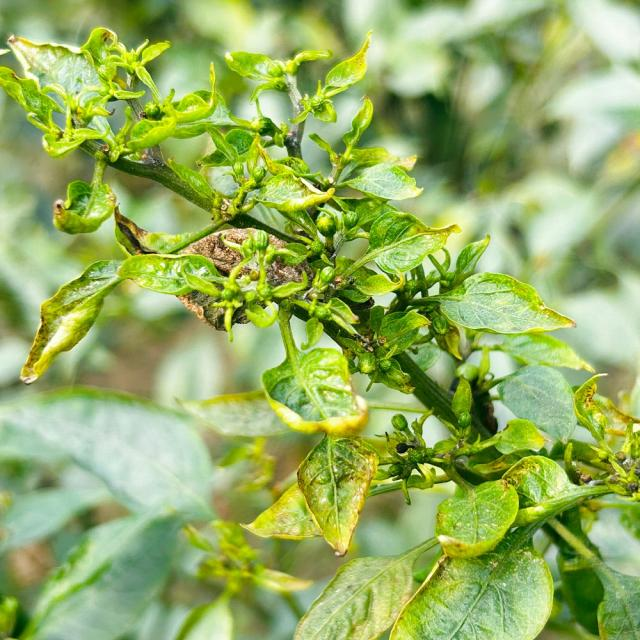Chilli_Leaf_Curl: (0, 24, 638, 638), (19, 251, 222, 385), (173, 225, 311, 337), (417, 270, 576, 336), (296, 432, 380, 556), (434, 478, 520, 559)
